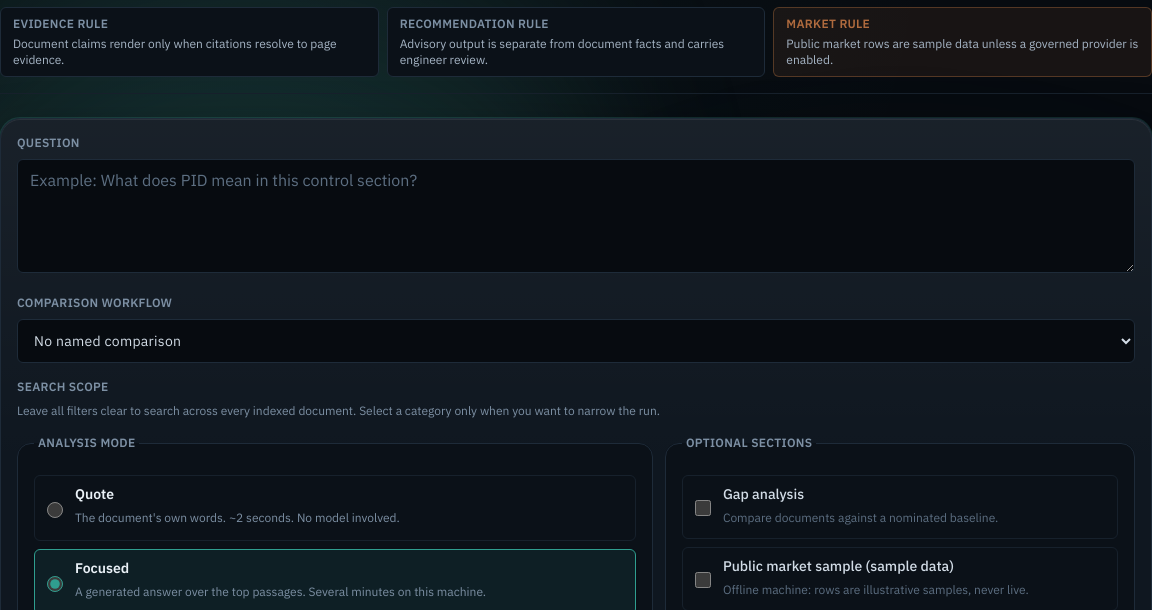
Test: B34: removed sentences are shown, greyed, and outside the answer › shows the summary's removed sentence and its reason WITHOUT any click
Type "what is the minimum coating thickness" into the text box labelled "Question". click: (576, 216)
box: [17,159,1135,273]
(page scrolled)
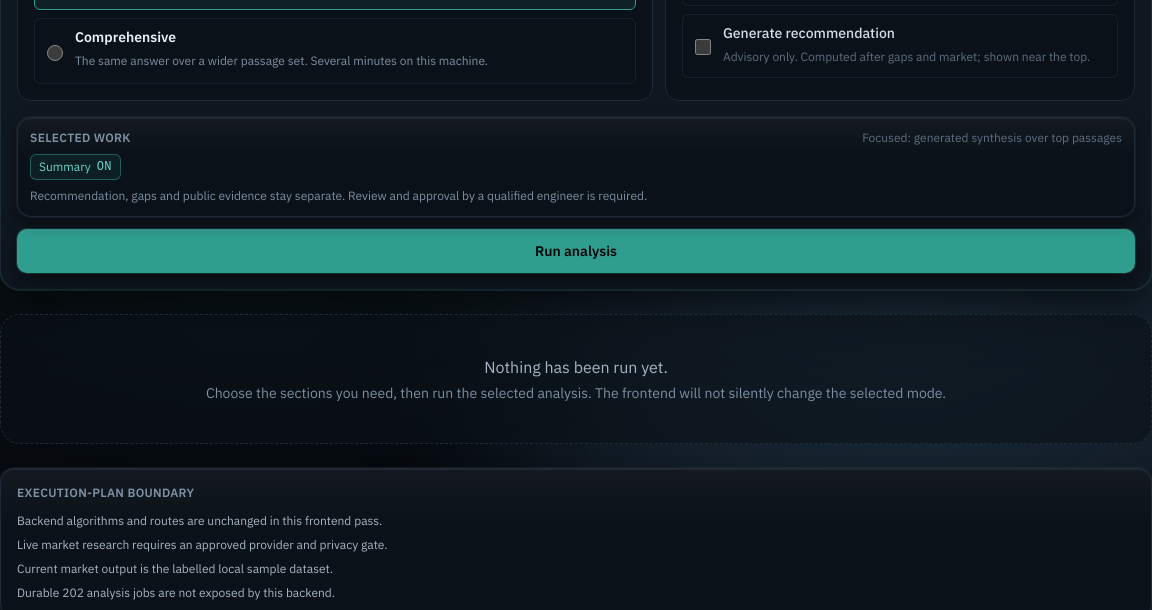
Click the button "Run analysis". click: (576, 251)
box: [17,229,1135,273]
(page scrolled)
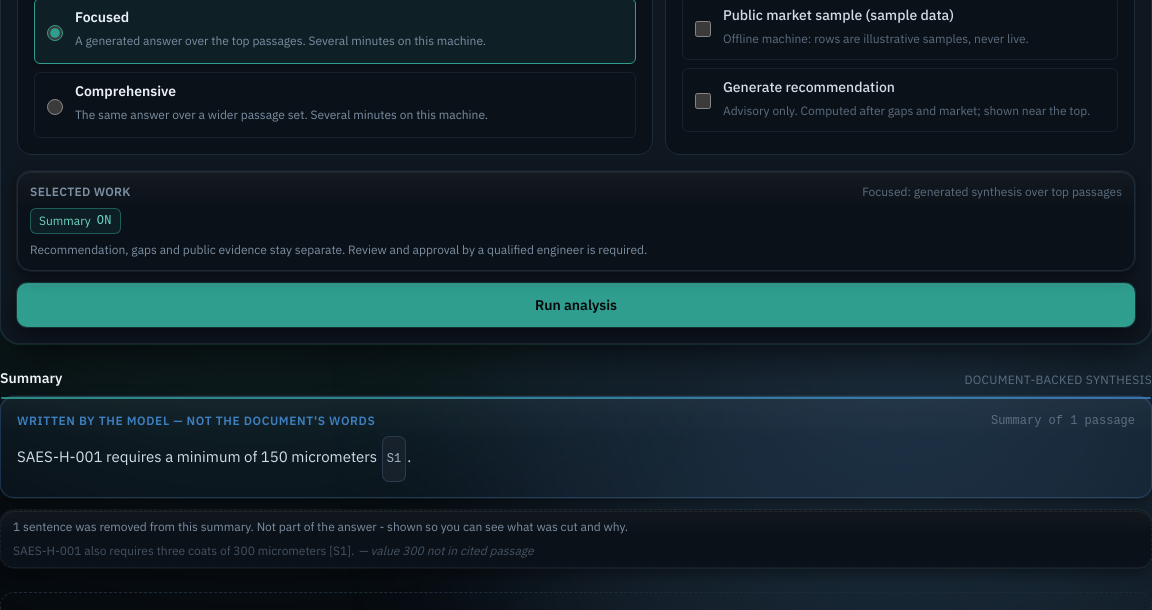
Result: the list item shows "SAES-H-001 also requires three coats of 300 micrometers [S1]." at [13,543,354,558]
Result: the list item shows "value 300 not in cited passage" at [370,543,534,558]
